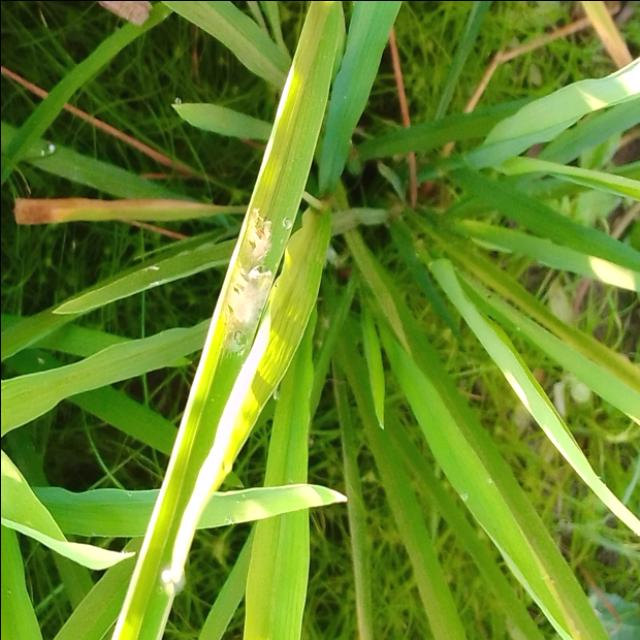Hawar Daun Bakteri: (3, 177, 225, 246)
Penggulung Daun: (175, 158, 314, 372)
